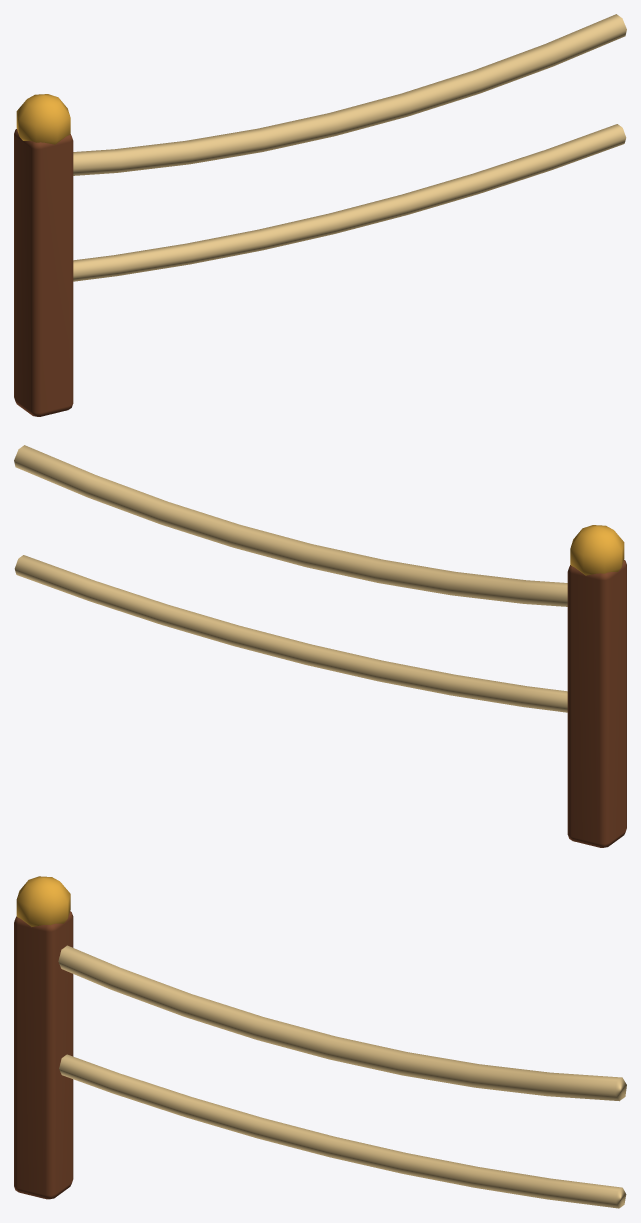
The model's file is cove_rail.glb.
3 renders of one model, top to bottom at view 1: azimuth 30°, elevation 25°; view 2: azimuth 150°, elevation 25°; view 3: azimuth 330°, elevation 25°, orthographic.
Visible parts, largest first — view 1: Rail; view 2: Rail; view 3: Rail.
Boxes of the visible parts, x1,y1,x2,y2 form: Rail: (14, 14, 626, 416); Rail: (14, 445, 626, 847); Rail: (14, 876, 626, 1208).
Size of the model in its own units: 2.61 by 1.29 by 0.2092.
